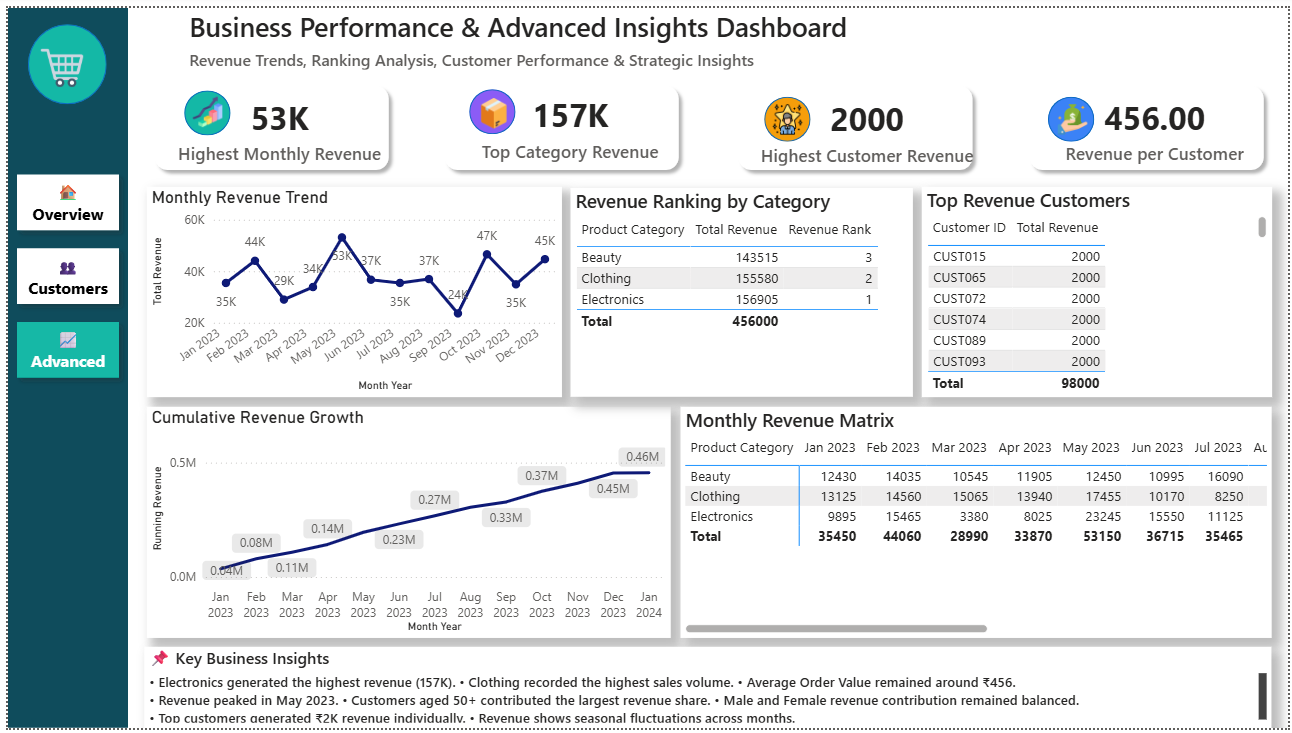

What the dashboard file says about the page in this screenshot:
{"tool":"powerbi","page":{"name":"Advanced","canvas":[1280,720],"ordinal":2},"visuals":[{"type":"textbox","title":"Business Performance & Advanced Insights Dashboard","box":[176.2,0,671.2,67.5],"z":0},{"type":"lineChart","title":"Monthly Revenue Trend","fields":{"Category":["retail_sales_dataset.Month Year"],"Y":["retail_sales_dataset.Total Revenue"]},"box":[138.8,178.8,415,210],"z":1000},{"type":"lineChart","title":"Cumulative Revenue Growth","fields":{"Category":["retail_sales_dataset.Month Year"],"Y":["retail_sales_dataset.Running Revenue"]},"box":[138.8,398.8,523.8,231.2],"z":2000},{"type":"tableEx","title":"Revenue Ranking by Category","fields":{"Values":["retail_sales_dataset.Product Category","retail_sales_dataset.Total Revenue","retail_sales_dataset.Revenue Rank"]},"box":[562.5,180,342.5,208.8],"z":3000},{"type":"tableEx","title":"Top Revenue Customers","fields":{"Values":["retail_sales_dataset.Customer ID","retail_sales_dataset.Total Revenue"]},"box":[913.8,178.8,350,210],"z":4000},{"type":"pivotTable","title":"Monthly Revenue Matrix","fields":{"Rows":["retail_sales_dataset.Product Category"],"Columns":["retail_sales_dataset.Month Year"],"Values":["retail_sales_dataset.Total Revenue"]},"box":[672.5,398.8,591.2,231.2],"z":5000},{"type":"textbox","title":"📌 Key Business Insights","box":[136.2,638.8,1127.5,81.2],"z":6000},{"type":"shape","box":[0,0,120,719.8],"z":7000},{"type":"shape","box":[20,16.2,78.8,80],"z":8000},{"type":"image","box":[20,38.8,67.5,42.5],"z":9000},{"type":"actionButton","box":[0,157.5,120,73.8],"z":10000},{"type":"actionButton","box":[0,231.2,120,73.8],"z":11000},{"type":"actionButton","box":[0,305,120,73.8],"z":12000},{"type":"shape","box":[138.8,70,250,100],"z":13000},{"type":"shape","box":[428.8,70,250,100],"z":14000},{"type":"shape","box":[722.5,70,250,100],"z":15000},{"type":"shape","box":[1013.8,70,250,100],"z":16000},{"type":"card","fields":{"Values":["retail_sales_dataset.Best Month Revenue"]},"box":[165,81.2,213.8,80],"z":17000},{"type":"card","fields":{"Values":["retail_sales_dataset.Best Category Revenue"]},"box":[462.5,78.8,200,80],"z":18000},{"type":"card","fields":{"Values":["retail_sales_dataset.Highest Customer Revenue"]},"box":[746.2,82.5,226.2,80],"z":19000},{"type":"card","fields":{"Values":["retail_sales_dataset.Revenue per Customer"]},"box":[1046.2,81.2,201.2,80],"z":20000},{"type":"shape","box":[176.2,82.5,46.2,45],"z":21000},{"type":"image","box":[168.8,88.8,61.2,30],"z":22000},{"type":"shape","box":[1040,88.8,46.2,45],"z":22003},{"type":"image","box":[1033.8,96.2,61.2,30],"z":22004},{"type":"shape","box":[756.2,88.8,46.2,45],"z":22005},{"type":"image","box":[748.8,96.2,61.2,30],"z":22006},{"type":"shape","box":[461.2,81.2,46.2,45],"z":22007},{"type":"image","box":[455,90,61.2,30],"z":22008}]}

Visuals, with their boxes in screenshot pixels (x1, y1, x2, y2), scaled from the page's 1280x720 canvas onto the 1292x733 screenshot:
"Business Performance & Advanced Insights Dashboard" textbox: box=[178, 0, 855, 69]
"Monthly Revenue Trend" lineChart: box=[140, 182, 559, 396]
"Cumulative Revenue Growth" lineChart: box=[140, 406, 669, 641]
"Revenue Ranking by Category" tableEx: box=[568, 183, 913, 396]
"Top Revenue Customers" tableEx: box=[922, 182, 1276, 396]
"Monthly Revenue Matrix" pivotTable: box=[679, 406, 1276, 641]
"📌 Key Business Insights" textbox: box=[137, 650, 1276, 732]
shape: box=[0, 0, 121, 732]
shape: box=[20, 16, 100, 98]
image: box=[20, 40, 88, 83]
actionButton: box=[0, 160, 121, 235]
actionButton: box=[0, 235, 121, 311]
actionButton: box=[0, 311, 121, 386]
shape: box=[140, 71, 392, 173]
shape: box=[433, 71, 685, 173]
shape: box=[729, 71, 982, 173]
shape: box=[1023, 71, 1276, 173]
card - retail_sales_dataset.Best Month Revenue: box=[167, 83, 382, 164]
card - retail_sales_dataset.Best Category Revenue: box=[467, 80, 669, 162]
card - retail_sales_dataset.Highest Customer Revenue: box=[753, 84, 982, 165]
card - retail_sales_dataset.Revenue per Customer: box=[1056, 83, 1259, 164]
shape: box=[178, 84, 224, 130]
image: box=[170, 90, 232, 121]
shape: box=[1050, 90, 1096, 136]
image: box=[1043, 98, 1105, 128]
shape: box=[763, 90, 810, 136]
image: box=[756, 98, 818, 128]
shape: box=[466, 83, 512, 128]
image: box=[459, 92, 521, 122]
